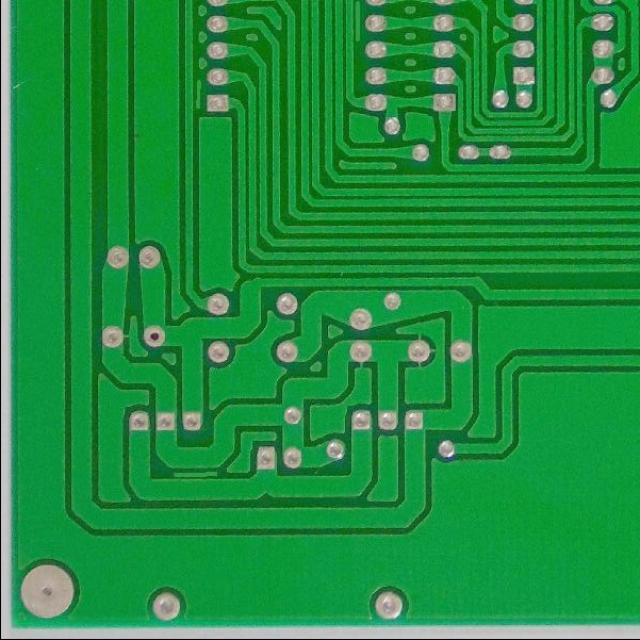Missing_Hole: (140, 324, 166, 348)
Spurious_Cooper: (168, 466, 220, 479), (352, 0, 364, 44), (190, 74, 203, 110)
